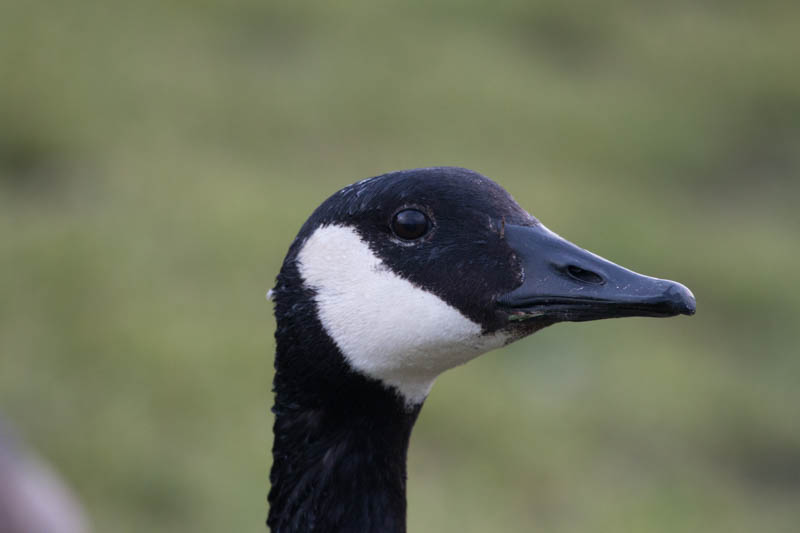goose-head: (274, 168, 692, 409)
